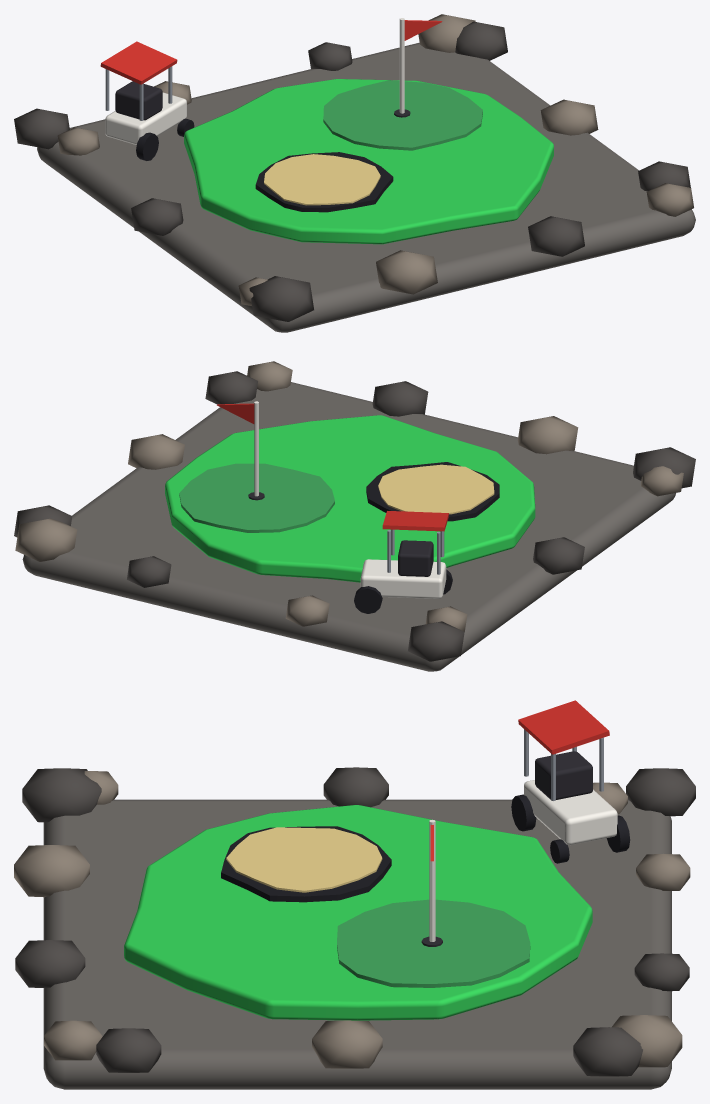
Rendered from building_golf_course_t1.glb.
The picture shows the model from 3 angles, top to bottom: view 1: azimuth 30°, elevation 25°; view 2: azimuth 150°, elevation 25°; view 3: azimuth 270°, elevation 25°; orthographic projection. The views are drawn at different scales.
Parts seen in each view (by area): view 1: RubbleSlab, Lawn, PuttingGreen, Sand, Boulder9, Boulder10, CartBody, CartRoof, BunkerRim, Boulder11, Boulder5, Boulder0 (+10 smaller); view 2: RubbleSlab, Lawn, PuttingGreen, Sand, CartBody, Boulder2, Boulder10, Boulder5, Boulder0, Boulder11, Boulder7, Boulder9 (+11 smaller); view 3: RubbleSlab, Lawn, PuttingGreen, Sand, CartBody, Boulder9, Boulder10, Boulder0, Boulder1, CartRoof, BunkerRim, Boulder11 (+12 smaller).
Part boxes in pixels (bbox=[...]): RubbleSlab: bbox=[37, 42, 695, 332]; Lawn: bbox=[184, 79, 553, 244]; PuttingGreen: bbox=[323, 80, 482, 150]; Sand: bbox=[264, 154, 380, 205]; Boulder9: bbox=[249, 276, 313, 321]; Boulder10: bbox=[376, 250, 437, 294]; CartBody: bbox=[105, 92, 186, 144]; CartRoof: bbox=[100, 41, 177, 84]; BunkerRim: bbox=[255, 152, 393, 212]; Boulder11: bbox=[528, 216, 584, 256]; Boulder5: bbox=[14, 108, 69, 149]; Boulder0: bbox=[540, 99, 598, 135]; RubbleSlab: bbox=[22, 382, 675, 671]; Lawn: bbox=[165, 415, 535, 582]; PuttingGreen: bbox=[179, 463, 334, 532]; Sand: bbox=[378, 464, 494, 514]; CartBody: bbox=[360, 559, 446, 598]; Boulder2: bbox=[15, 518, 77, 561]; Boulder10: bbox=[517, 416, 578, 454]; Boulder5: bbox=[408, 621, 464, 661]; Boulder0: bbox=[128, 434, 184, 469]; Boulder11: bbox=[372, 381, 428, 416]; Boulder7: bbox=[533, 537, 584, 574]; Boulder9: bbox=[633, 447, 695, 488]; RubbleSlab: bbox=[43, 799, 671, 1089]; Lawn: bbox=[124, 805, 592, 1020]; PuttingGreen: bbox=[337, 899, 530, 987]; Sand: bbox=[226, 827, 382, 892]; CartBody: bbox=[524, 780, 617, 845]; Boulder9: bbox=[22, 768, 101, 822]; Boulder10: bbox=[14, 845, 89, 897]; Boulder0: bbox=[312, 1020, 382, 1068]; Boulder1: bbox=[573, 1027, 642, 1076]; CartRoof: bbox=[518, 700, 609, 754]; BunkerRim: bbox=[221, 826, 391, 902]; Boulder11: bbox=[15, 940, 85, 988].
Size of the model in its own units: 6.5 by 1.9 by 6.4.
